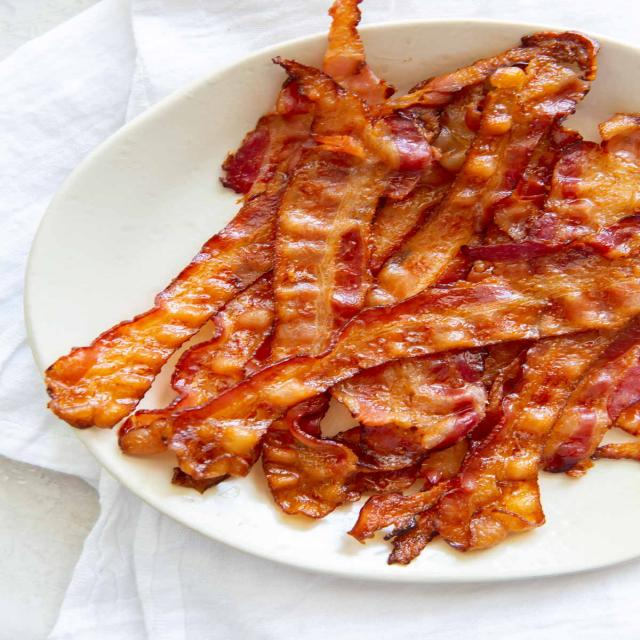Bacon: (169, 246, 639, 479), (45, 182, 285, 429), (369, 55, 589, 305), (435, 330, 619, 550), (272, 149, 392, 361), (467, 115, 639, 261), (332, 349, 488, 451), (262, 394, 358, 519)
